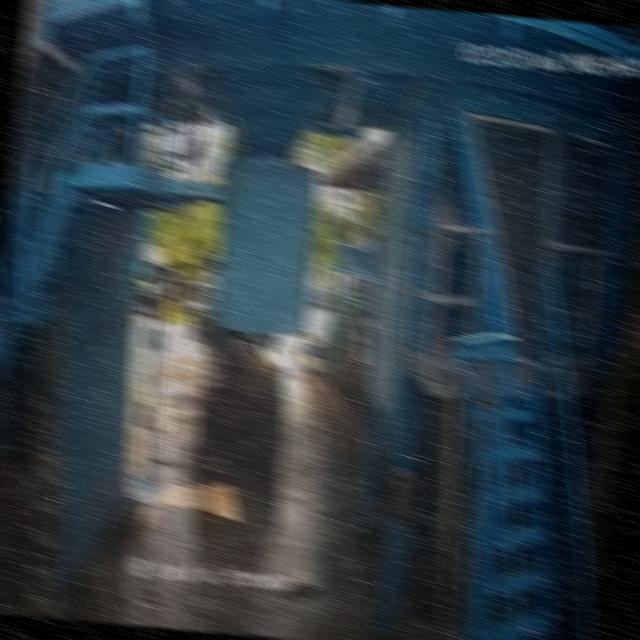cement_mixer_truck: (187, 256, 289, 480)
